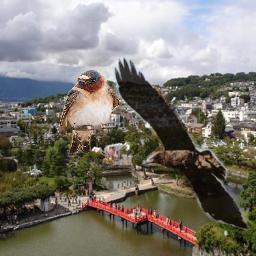Crow: (111, 55, 251, 233)
Swallow: (59, 69, 119, 154)
